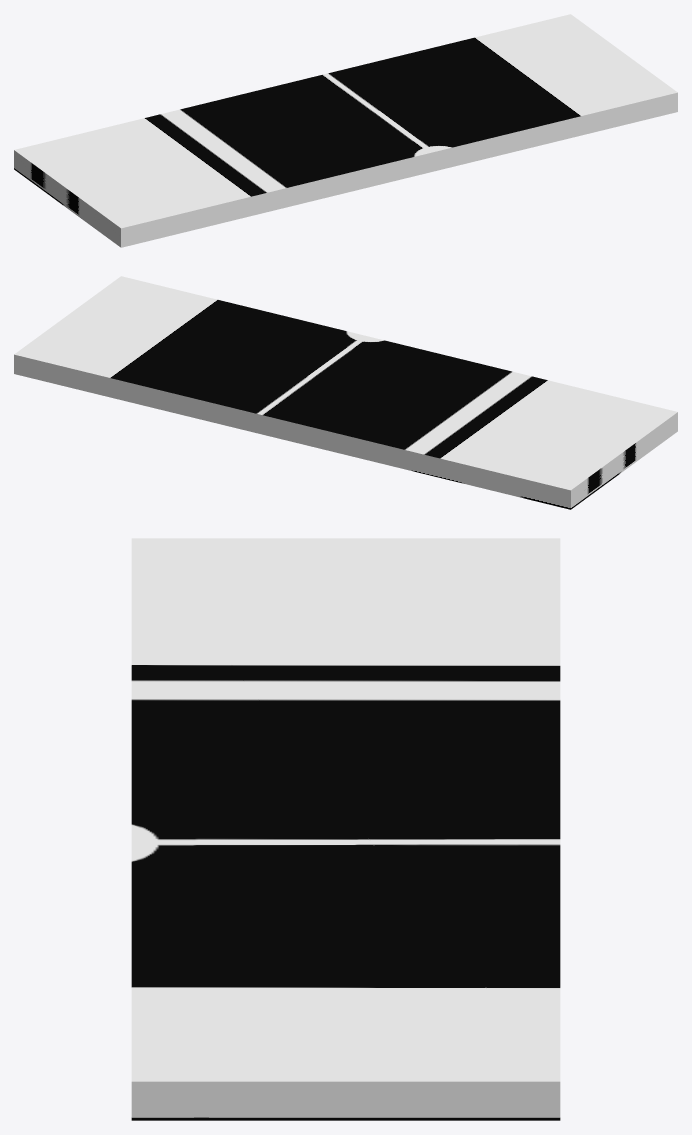
File: OneToThreeOBJ.obj
3 renders of one model, top to bottom at view 1: azimuth 30°, elevation 25°; view 2: azimuth 150°, elevation 25°; view 3: azimuth 270°, elevation 25°, orthographic. The views are drawn at different scales.
Parts seen in each view (by area): view 1: pCube1; view 2: pCube1; view 3: pCube1.
Boxes of the visible parts, bbox=[...] form: pCube1: bbox=[14, 14, 677, 247]; pCube1: bbox=[14, 276, 677, 509]; pCube1: bbox=[131, 538, 560, 1120].
Bounding box in the file's own units: 3 × 0.1 × 1.
